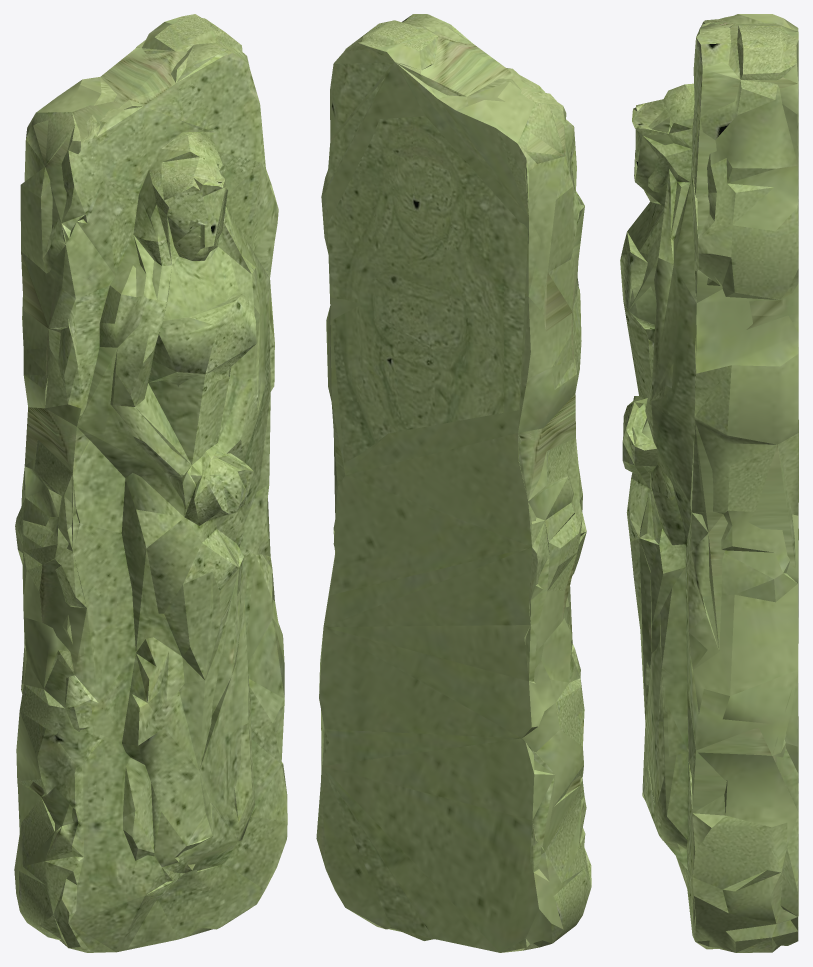
File: e4tanitab.glb
The picture shows the model from 3 angles, left to right: view 1: azimuth 30°, elevation 25°; view 2: azimuth 150°, elevation 25°; view 3: azimuth 270°, elevation 25°; orthographic projection. The views are drawn at different scales.
Visible parts, largest first — view 1: e4tanitab_near, e4tanitab_far; view 2: e4tanitab_near, e4tanitab_far; view 3: e4tanitab_near, e4tanitab_far.
Boxes of the visible parts, <box> form: e4tanitab_near: <box>14,14,287,952</box>; e4tanitab_far: <box>18,15,286,951</box>; e4tanitab_near: <box>316,14,591,952</box>; e4tanitab_far: <box>321,30,584,938</box>; e4tanitab_near: <box>620,14,798,952</box>; e4tanitab_far: <box>623,17,798,952</box>.
Bounding box in the file's own units: 0.0156 × 0.055 × 0.0097.
2 materials, 2 textured.
